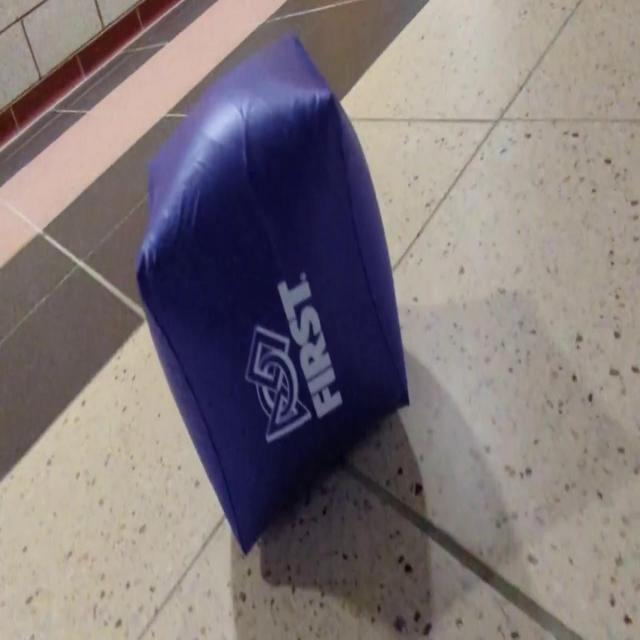frc_cube: (134, 34, 412, 554)
